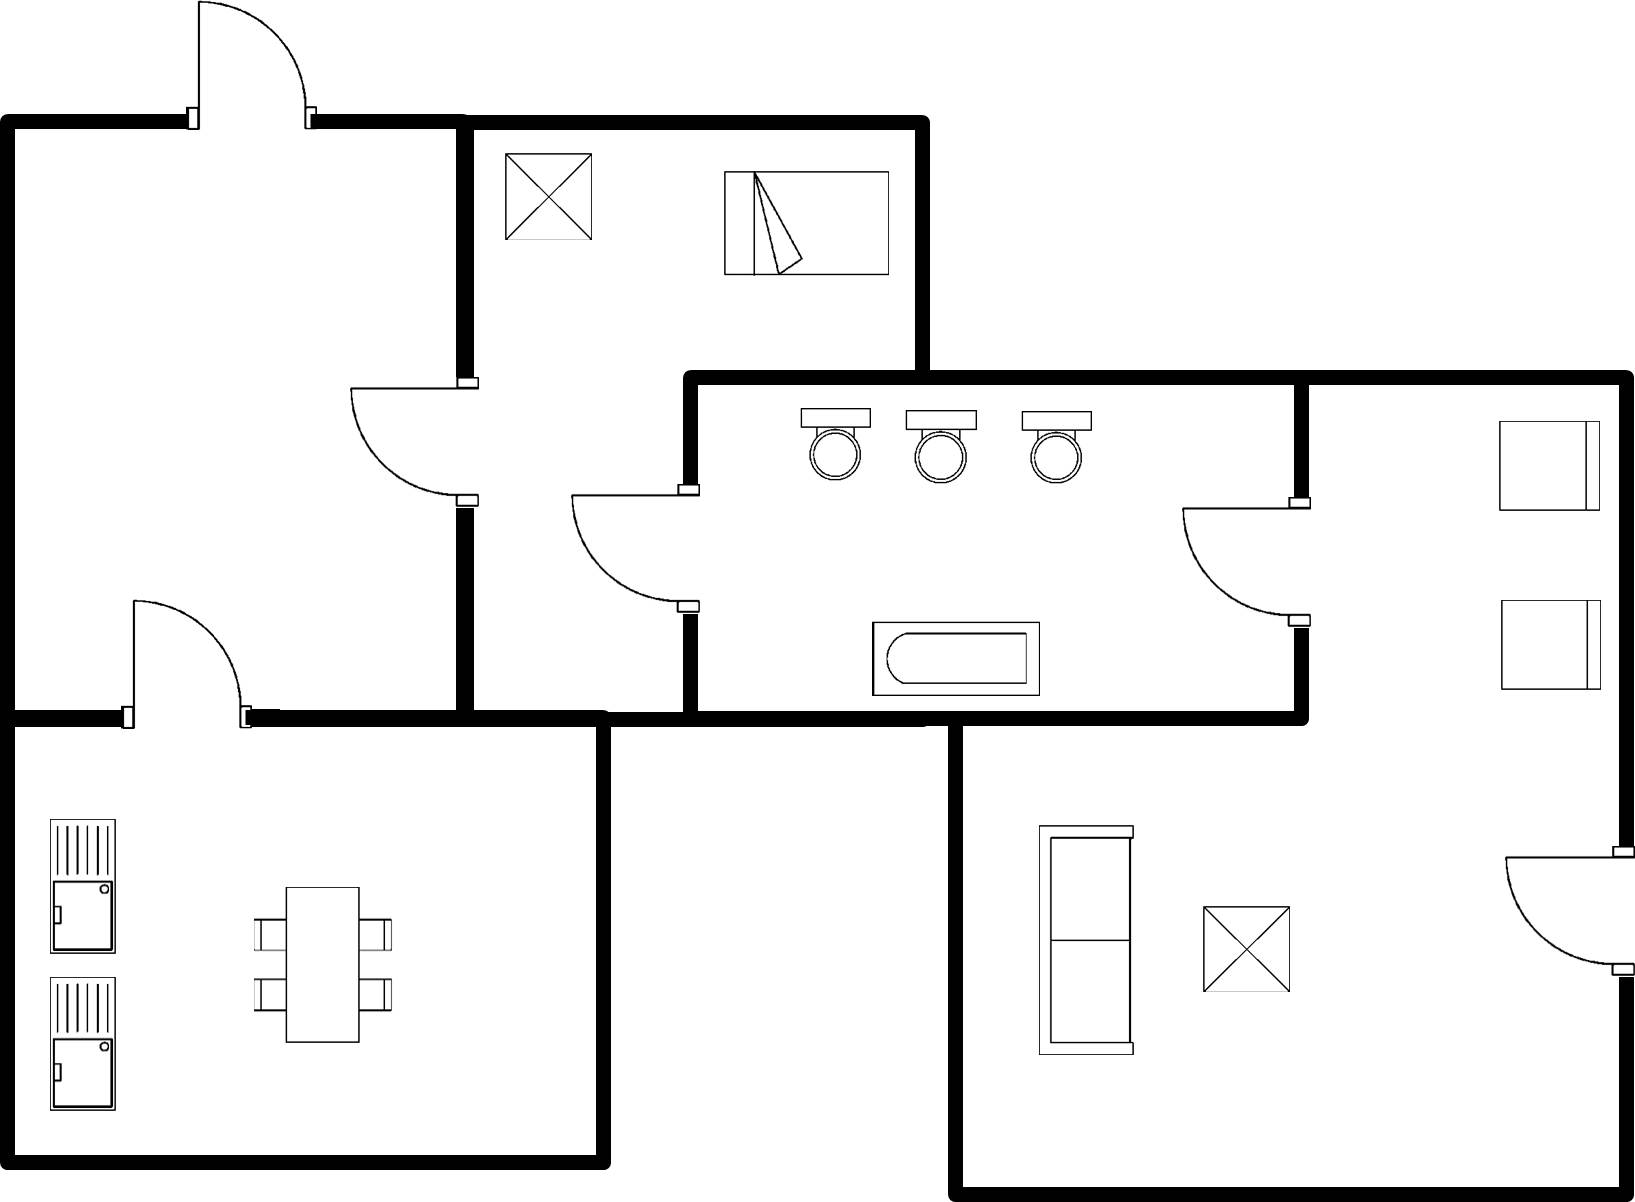bed: (711, 159, 899, 284)
coffee_table: (1192, 894, 1302, 999), (499, 145, 601, 252)
dining_table: (246, 878, 400, 1051)
large_sink: (898, 405, 986, 493), (1010, 401, 1098, 489), (793, 401, 880, 487)
large_sofa: (1031, 818, 1150, 1065)
sink: (40, 972, 128, 1122), (41, 811, 125, 965)
small_sofa: (1485, 411, 1610, 521), (1492, 589, 1608, 700)
tub: (864, 613, 1048, 705)
